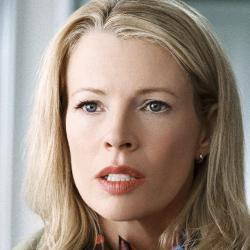face: (21, 1, 241, 226)
